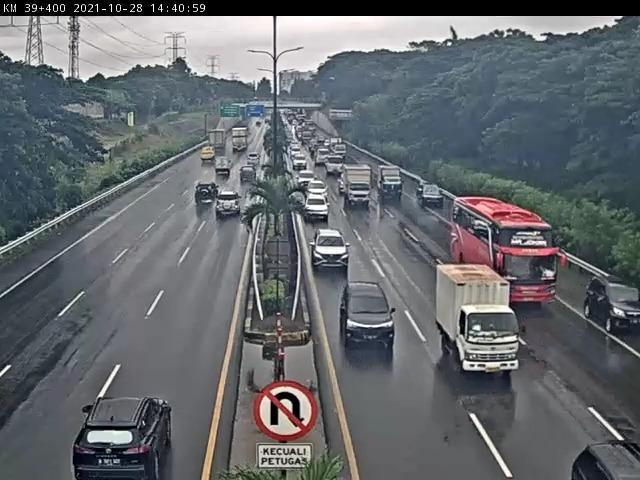bus: (451, 196, 560, 306)
car: (72, 396, 180, 480), (339, 280, 397, 347), (585, 274, 640, 332), (311, 229, 351, 270), (215, 190, 244, 217), (303, 194, 331, 221), (417, 183, 445, 207), (194, 181, 220, 205)
truck: (436, 263, 522, 375)
